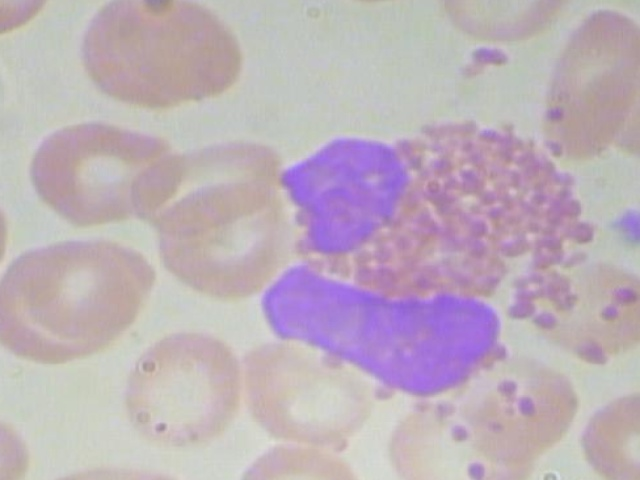Platelets: (599, 201, 640, 252)
RBC: (72, 0, 252, 113), (117, 323, 252, 458), (127, 126, 290, 237), (242, 331, 385, 451), (536, 6, 640, 164), (454, 358, 597, 465), (513, 261, 640, 369), (218, 438, 374, 480), (574, 388, 640, 480), (0, 405, 45, 480), (29, 463, 205, 480), (0, 191, 14, 291)
WBC: (265, 116, 610, 403)
